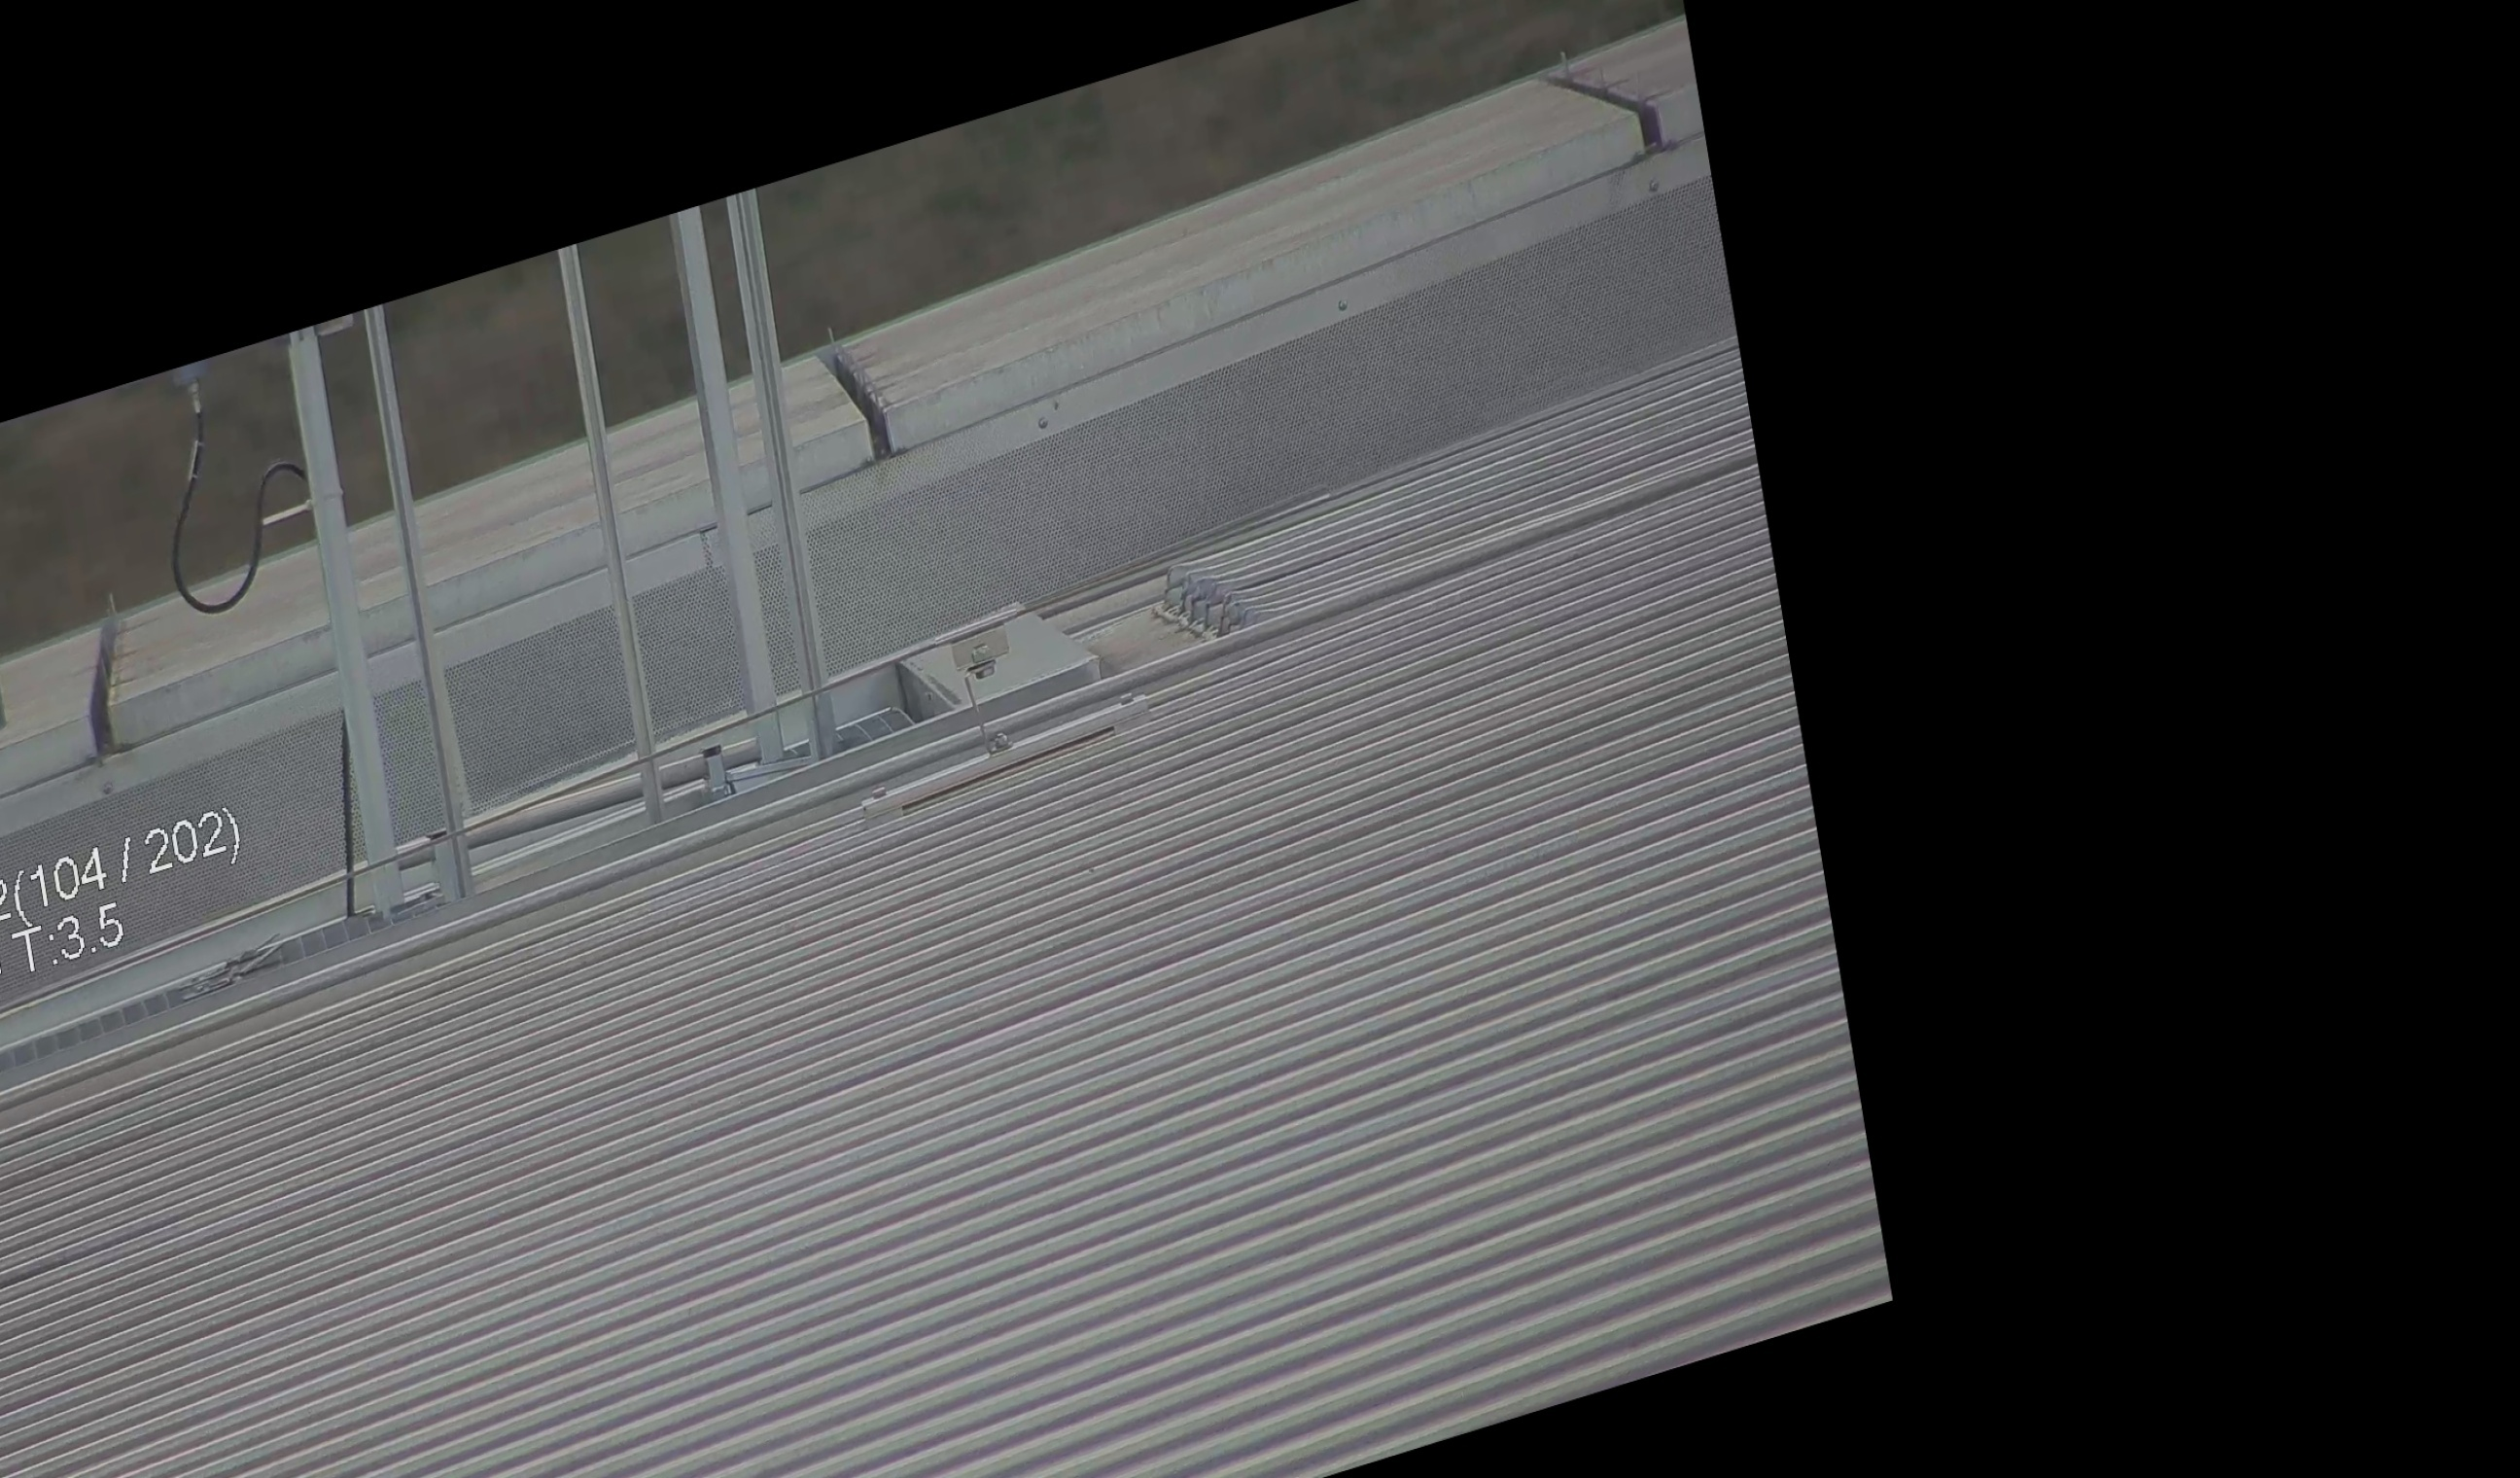Other: (797, 299, 911, 487)
